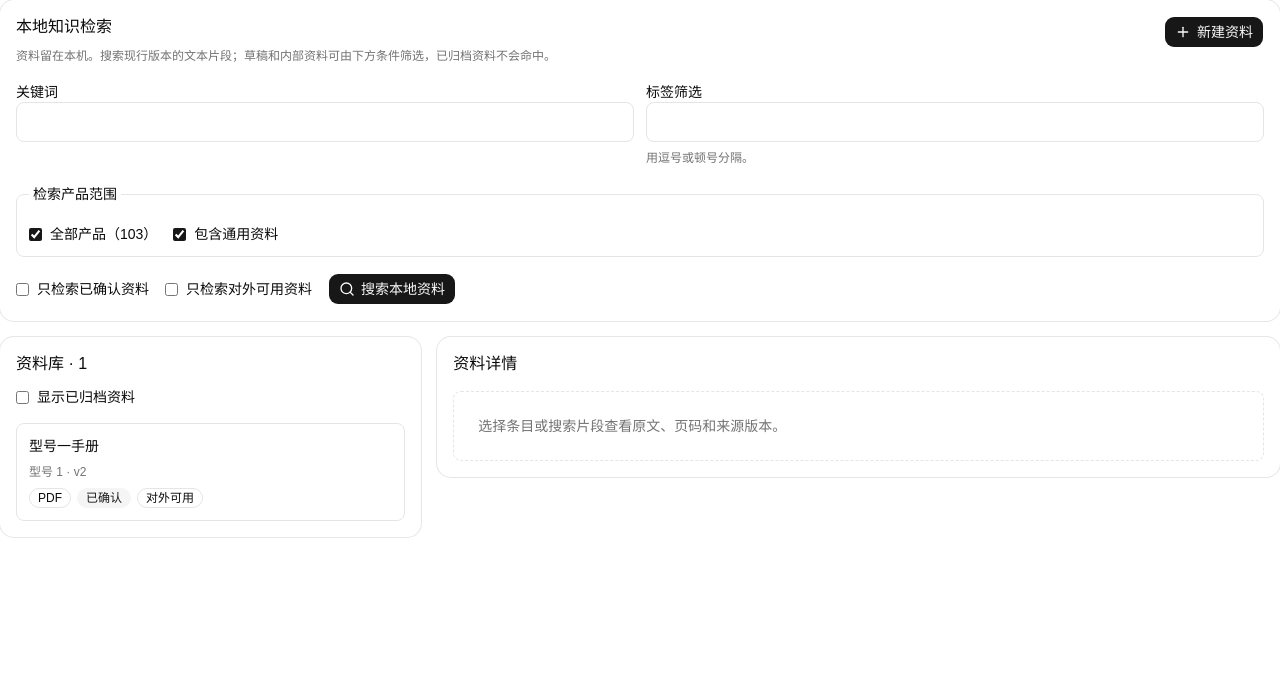
Test case: local knowledge workspace › searches over 100 master products with explicit all-products scope without enumerating IDs
Type "容量" into the field labelled "关键词".
click(325, 122); type("容量")  # box [16,102,634,142]
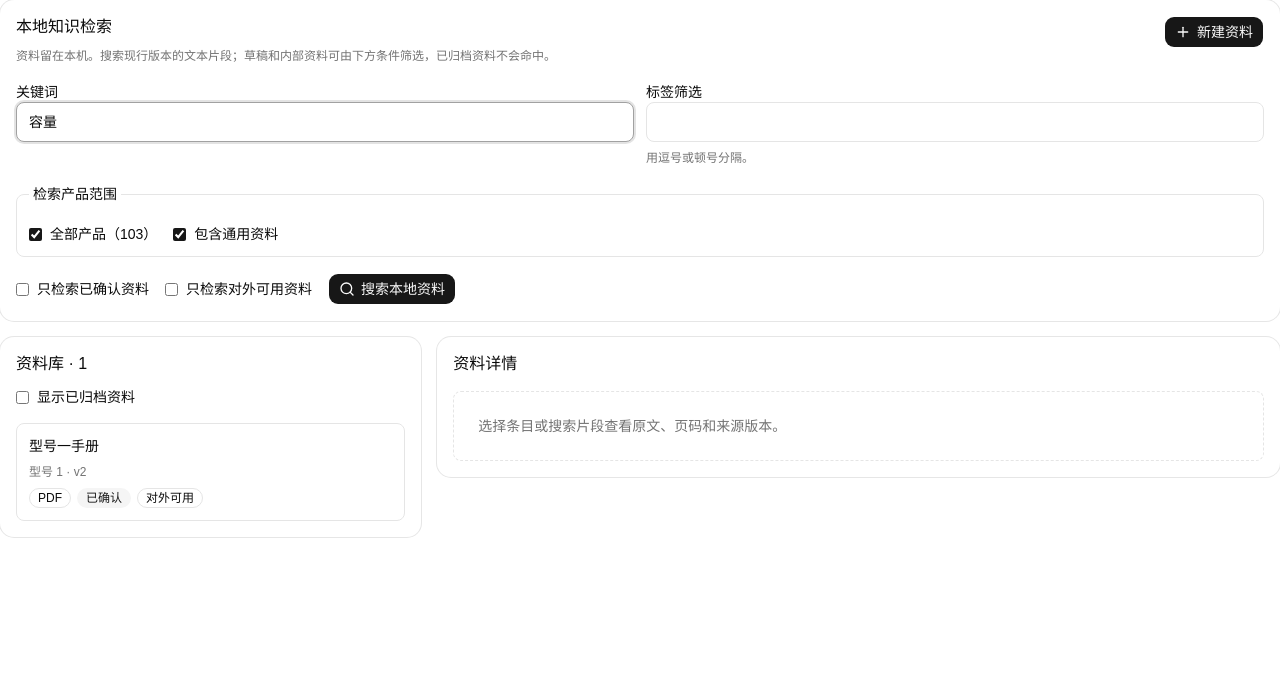
Click the button "搜索本地资料".
click(392, 289)  # box [328,273,456,305]
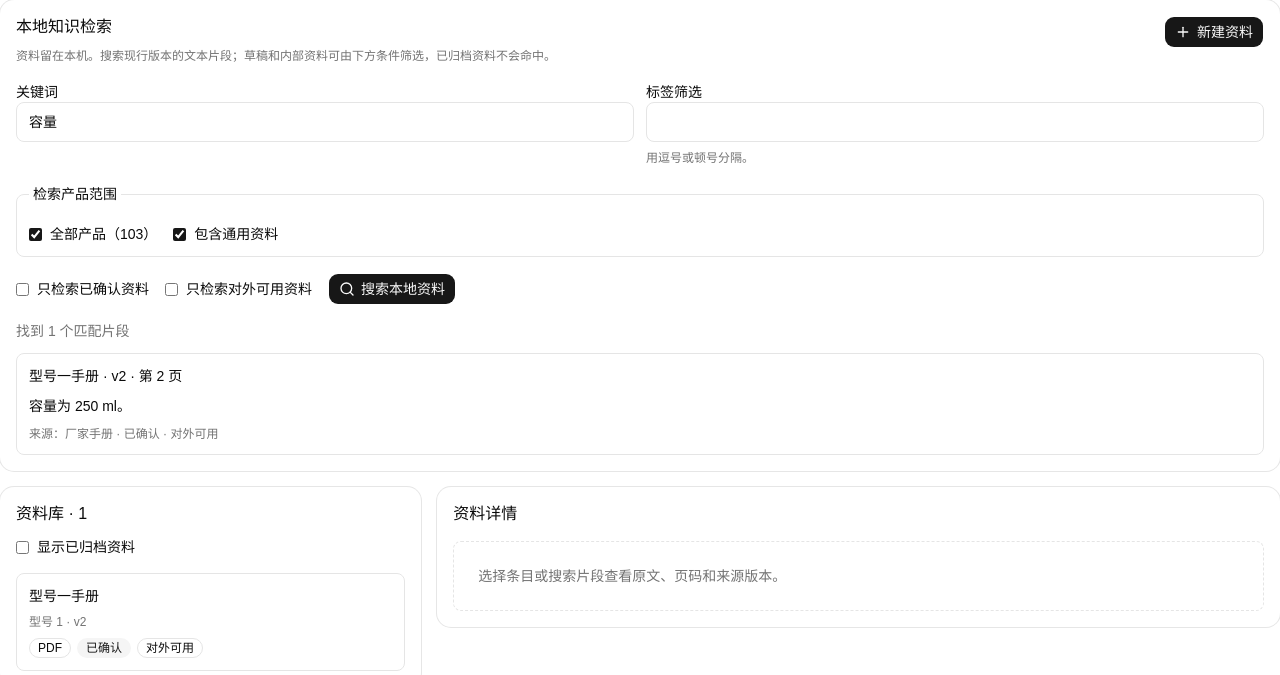
Result: the button "型号一手册 · v2 · 第 2 页 容量为 250 ml。 来源：厂家手册 · 已确认 · 对外可用" is shown at [16,353,1264,455]
Click the checkbox labelled "全部产品（103）".
click(36, 234)  # box [29,228,42,240]
(page scrolled)
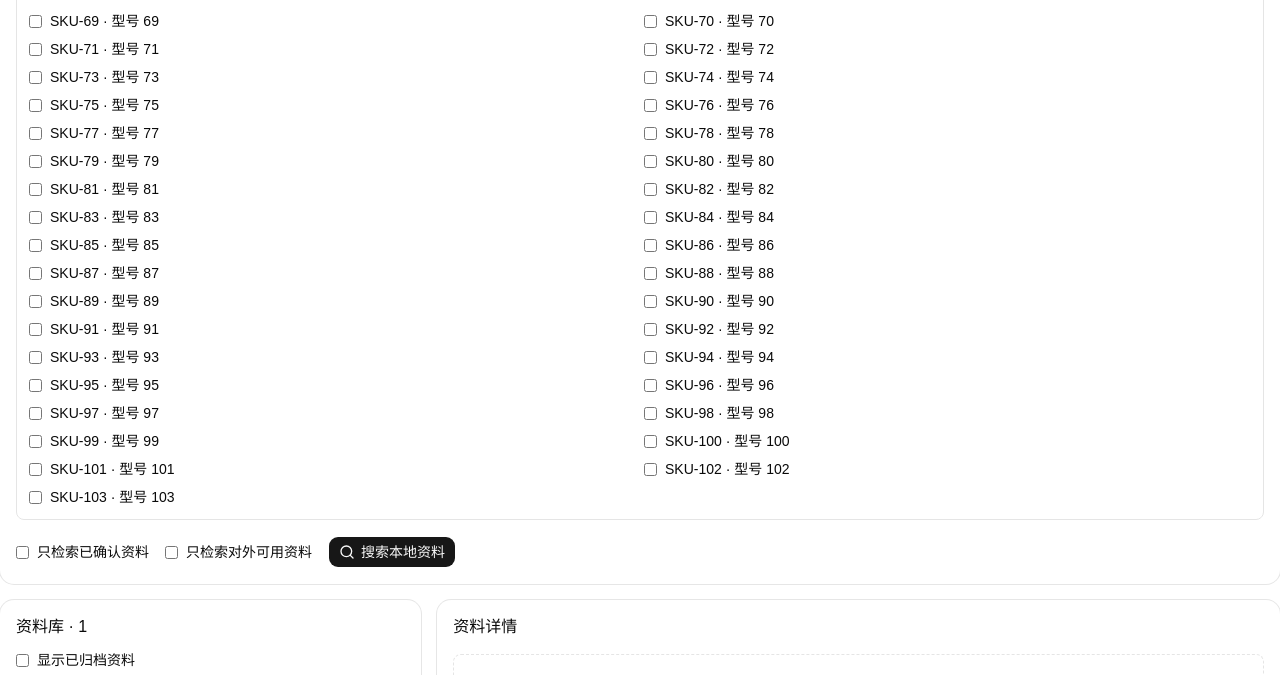
Click the checkbox labelled "SKU-103 · 型号 103".
click(36, 498)  # box [29,491,42,504]
(page scrolled)
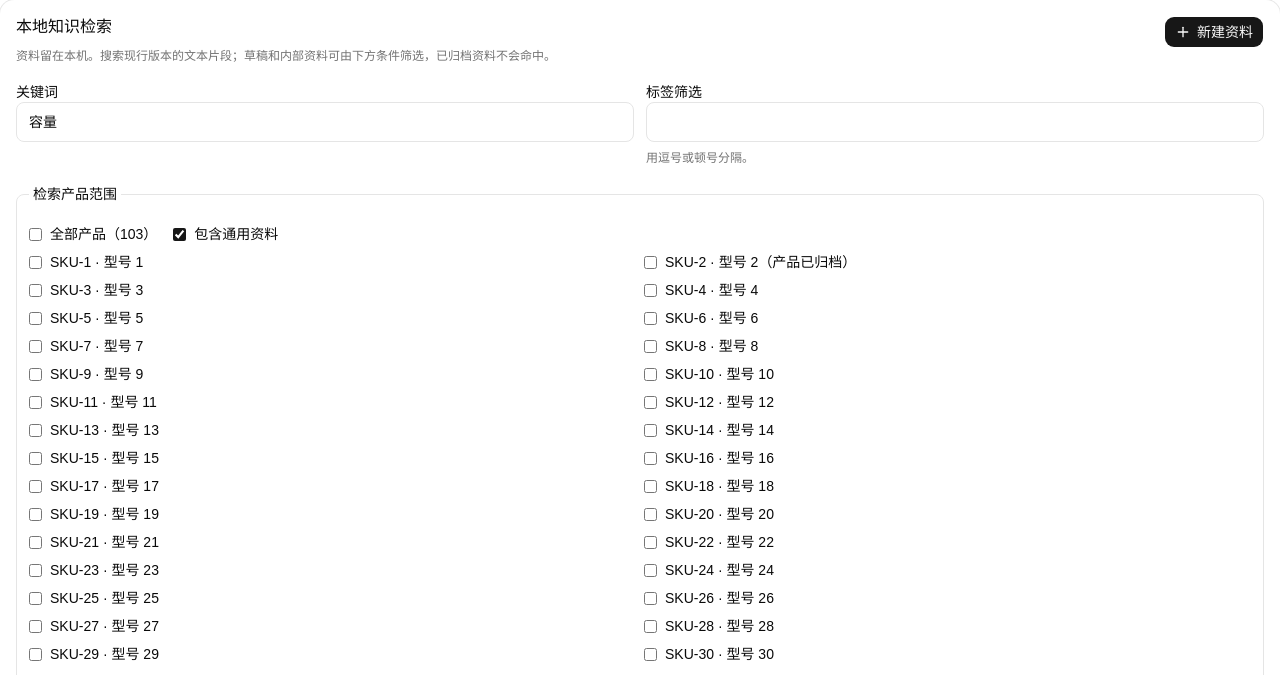
Click the checkbox labelled "包含通用资料".
click(180, 234)  # box [173,228,186,240]
(page scrolled)
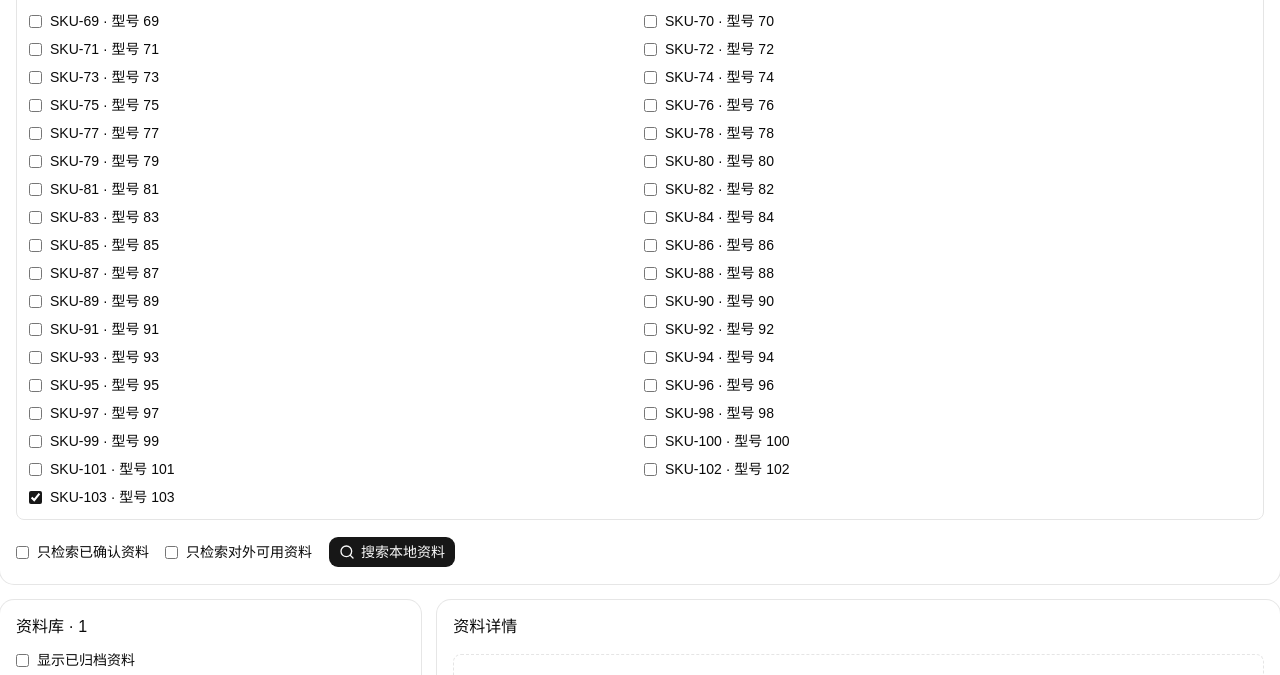
Click the button "搜索本地资料".
click(392, 552)  # box [328,536,456,568]
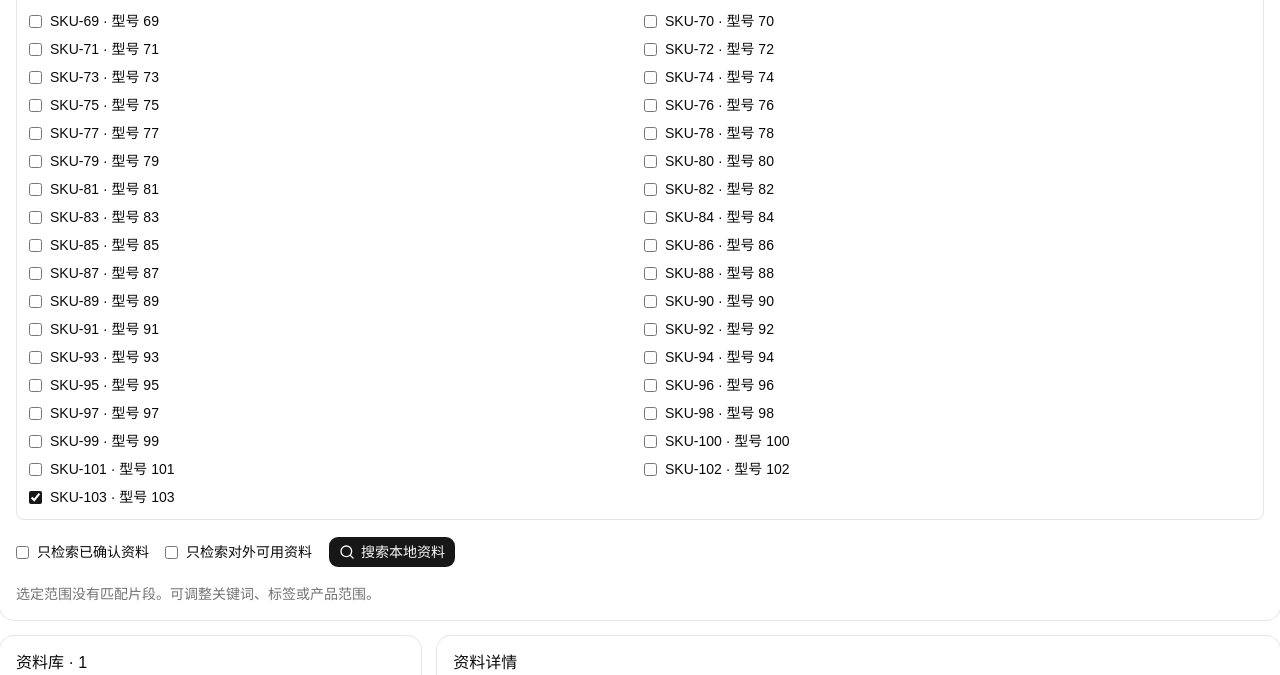
Result: the text "选定范围没有匹配片段。可调整关键词、标签或产品范围。" is shown at [16,586,380,602]
